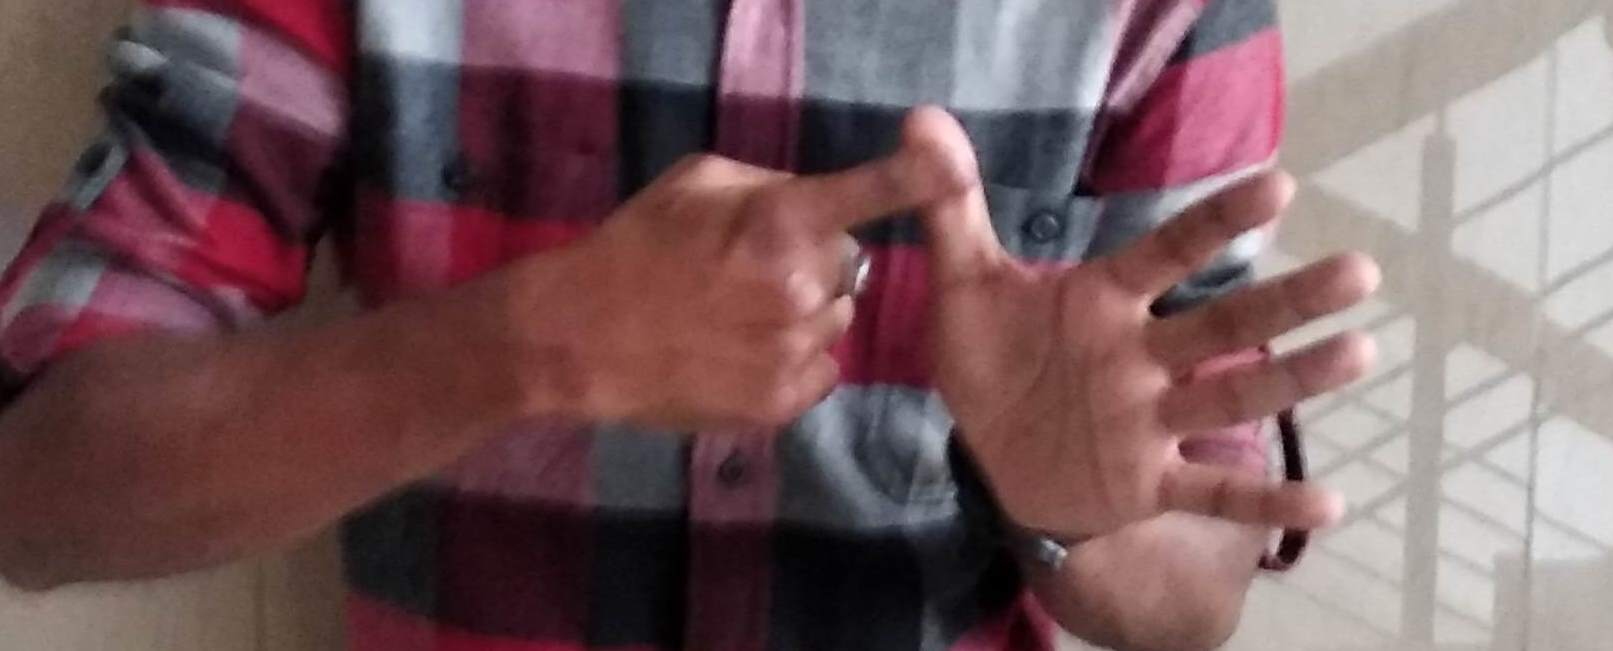a: (634, 86, 1323, 538)
